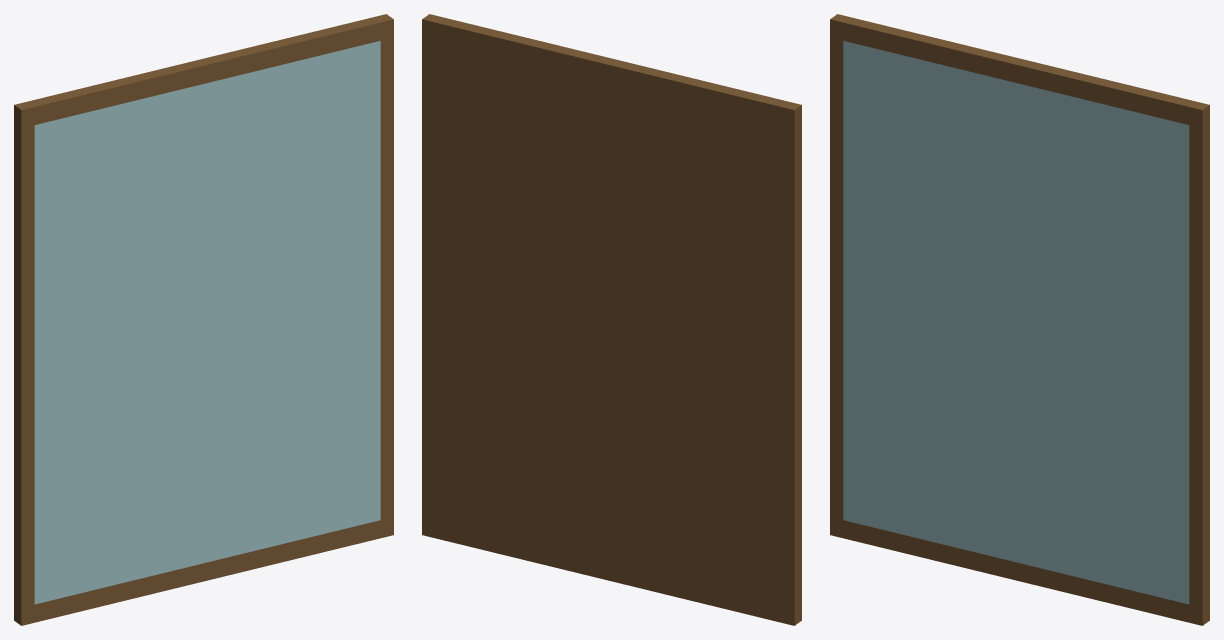
Rendered from MirrorGeo.fbx.
3 views of the same model, side by side, from view 1: azimuth 30°, elevation 25°; view 2: azimuth 150°, elevation 25°; view 3: azimuth 330°, elevation 25° (orthographic).
Parts seen in each view (by area): view 1: MirrorGeo; view 2: MirrorGeo; view 3: MirrorGeo.
Part boxes in pixels (bbox=[...]): MirrorGeo: bbox=[14, 14, 393, 625]; MirrorGeo: bbox=[422, 14, 801, 625]; MirrorGeo: bbox=[830, 14, 1209, 625].
Size of the model in its own units: 143 by 190 by 4.88.
